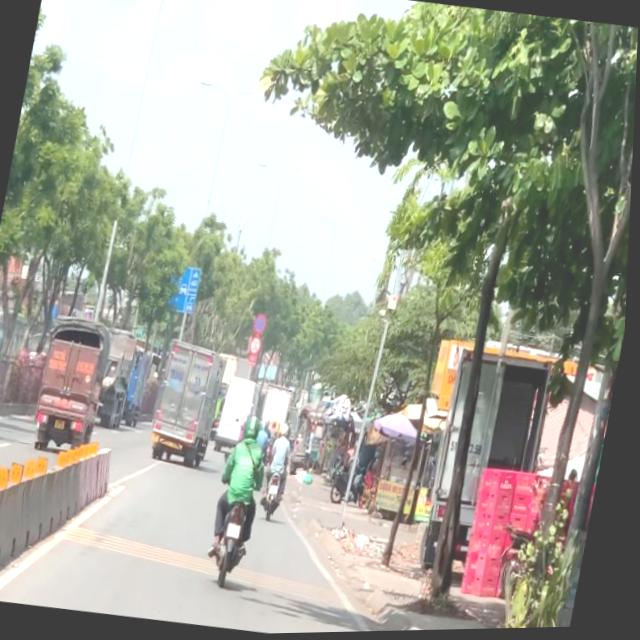Cam dung xe va do xe: (256, 314, 270, 337)
